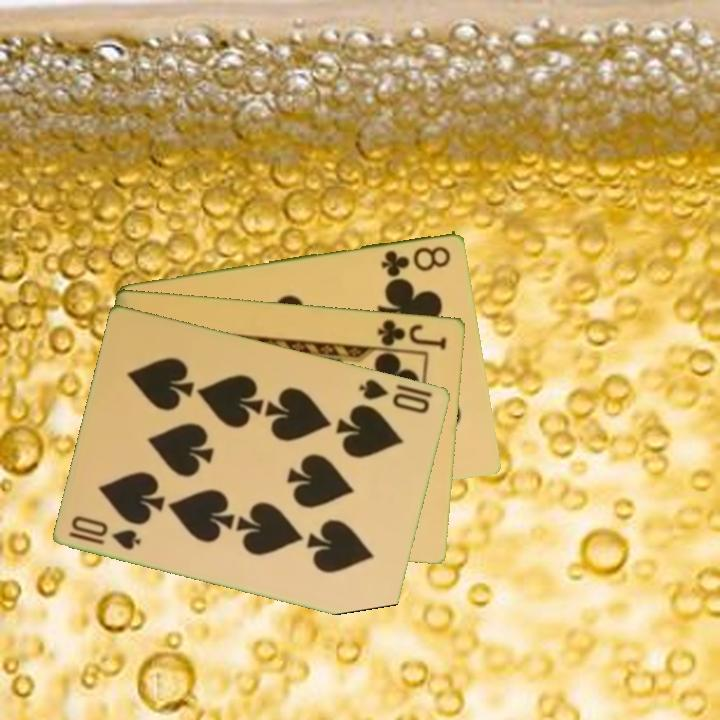10s: (66, 512, 144, 553), (356, 375, 433, 416)
8c: (378, 242, 454, 279)
Jc: (374, 315, 450, 352)
